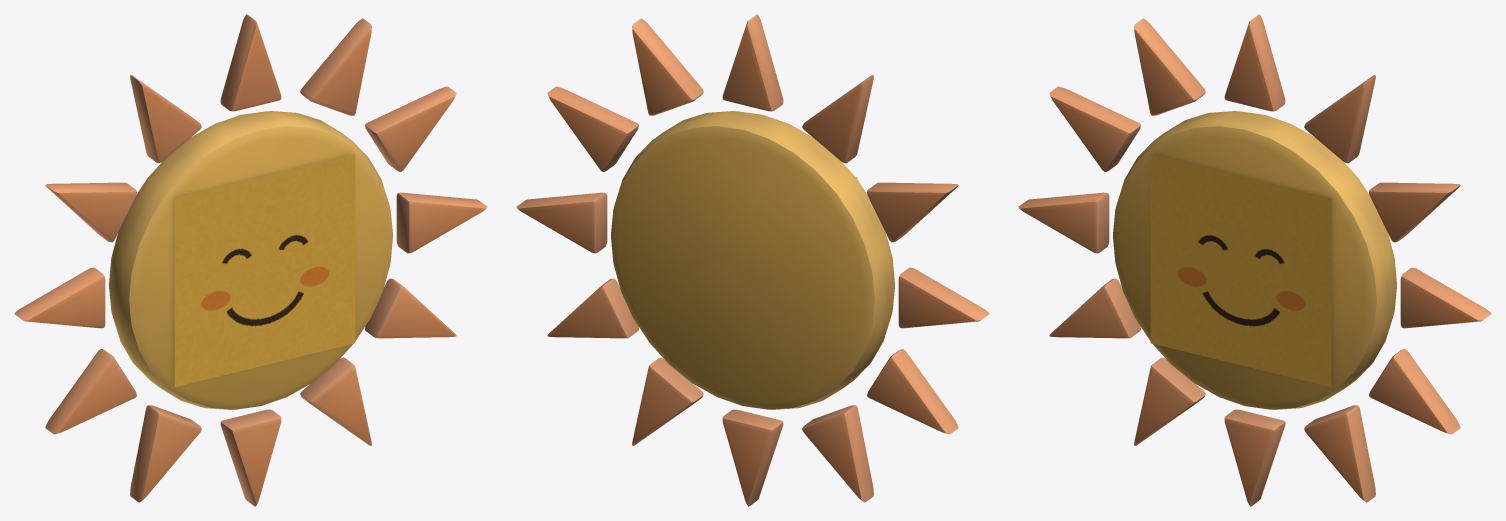
File: SunBadge.fbx
3 views of the same model, side by side, from view 1: azimuth 30°, elevation 25°; view 2: azimuth 150°, elevation 25°; view 3: azimuth 330°, elevation 25° (orthographic).
Parts seen in each view (by area): view 1: SunBadge; view 2: SunBadge; view 3: SunBadge.
Boxes of the visible parts, box(x1,y1,x2,y2) form: SunBadge: box(14, 14, 487, 506); SunBadge: box(516, 14, 989, 506); SunBadge: box(1018, 14, 1491, 506).
Bounding box in the file's own units: 154 × 154 × 15.
